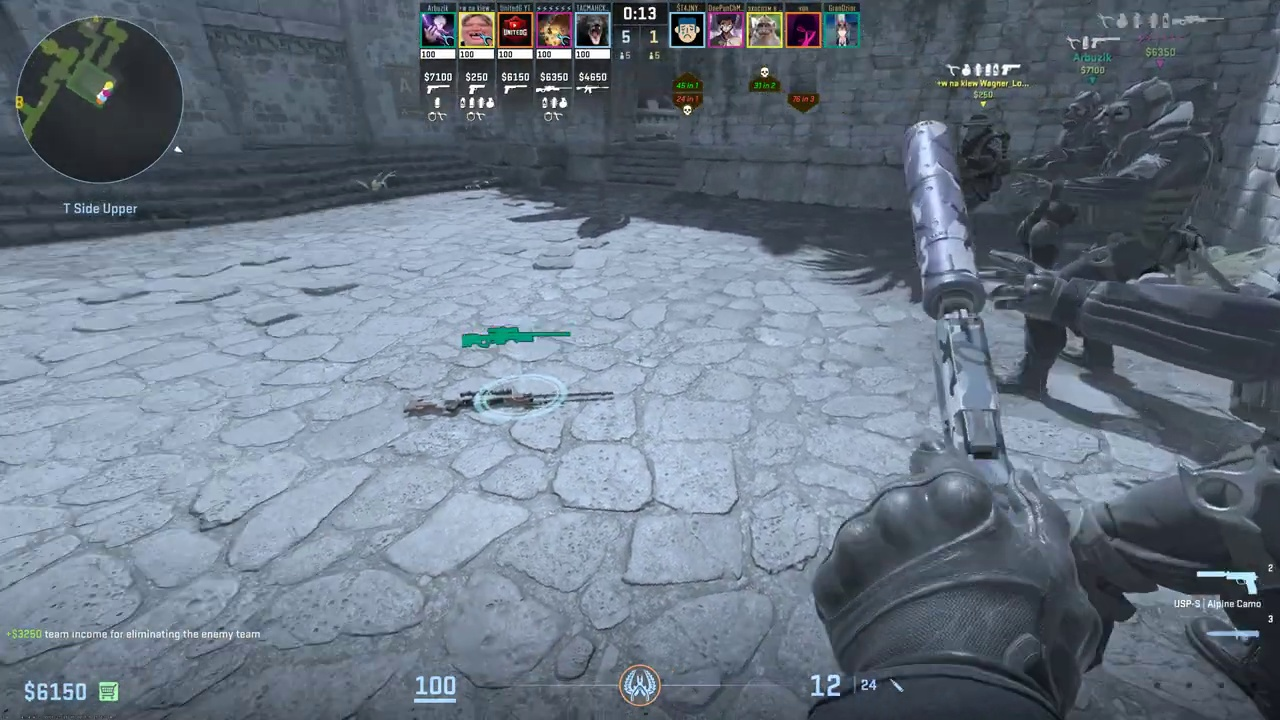CT: (1087, 262, 1280, 710), (1082, 77, 1227, 314), (1019, 87, 1092, 263), (959, 111, 1003, 243)
